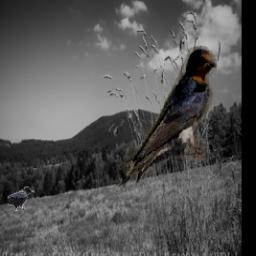Crow: (8, 186, 35, 212)
Swallow: (117, 47, 216, 190)
